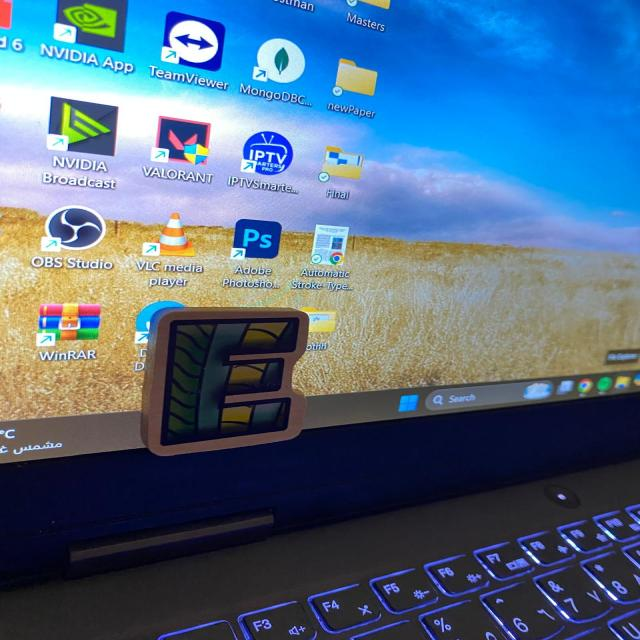E: (141, 307, 309, 455)
